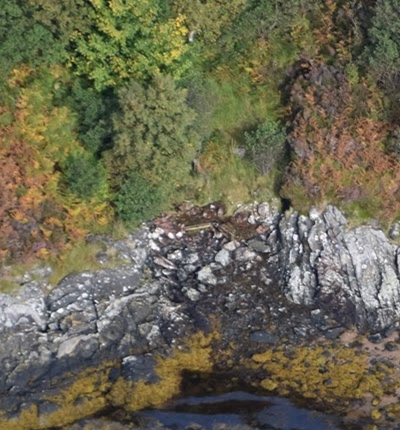straight_bar: (180, 208, 218, 240)
